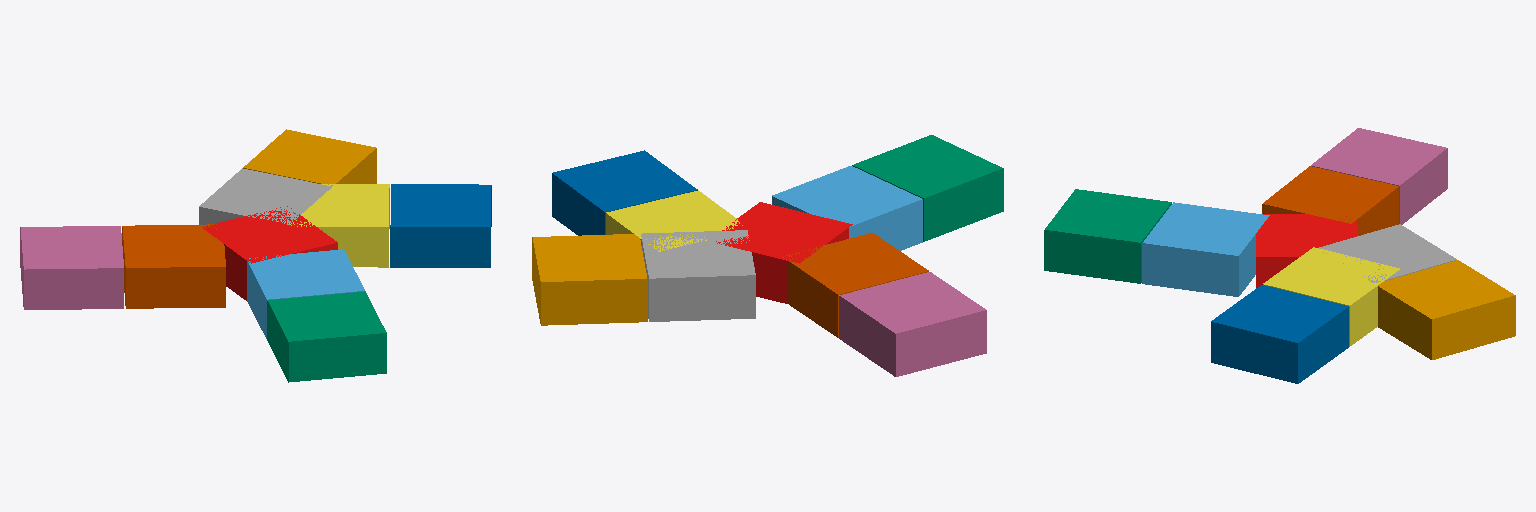
The robot description file, URDF, robot "Model_Models/Model_97.urdf3":
<?xml version='1.0' encoding='UTF-8'?>
<robot name="Model_Models/Model_97.urdf3">
  <link name="base_link">
    <inertial>
      <origin xyz="0.0 0.0 0.0" rpy="0.0 -0.0 0.0"/>
      <mass value="1.0"/>
      <inertia ixx="1.0" ixy="0.0" ixz="0.0" iyy="1.0" iyz="0.0" izz="1.0"/>
    </inertial>
    <visual>
      <geometry>
        <box size="0.67 0.67 0.3 "/>
      </geometry>
      <material name="red"/>
      <origin xyz="0.0 0.0 0.0" rpy="0.0 -0.0 0.0"/>
    </visual>
    <collision>
      <geometry>
        <box size="0.67 0.67 0.3 "/>
      </geometry>
      <origin xyz="0.0 0.0 0.0" rpy="0.0 0.0 0.0"/>
    </collision>
  </link>
  <link name="arm_1_arm1">
    <inertial>
      <origin xyz="0.0 0.34 0.0" rpy="0.0 0.0 0.0"/>
      <mass value="1.0"/>
      <inertia ixx="0.0" ixy="0.0" ixz="0.0" iyy="0.0" iyz="0.0" izz="0.0"/>
    </inertial>
    <visual>
      <geometry>
        <box size="0.67 0.67 0.3 "/>
      </geometry>
      <origin xyz="0.0 0.34 0.0" rpy="0.0 0.0 0.0"/>
    </visual>
    <collision>
      <geometry>
        <box size="0.67 0.67 0.3 "/>
      </geometry>
      <origin xyz="0.0 0.34 0.0" rpy="0.0 0.0 0.0"/>
    </collision>
  </link>
  <link name="arm_1_arm2">
    <inertial>
      <origin xyz="0.0 0.34 0.0" rpy="0.0 0.0 0.0"/>
      <mass value="1.0"/>
      <inertia ixx="0.0" ixy="0.0" ixz="0.0" iyy="0.0" iyz="0.0" izz="0.0"/>
    </inertial>
    <visual>
      <geometry>
        <box size="0.67 0.67 0.3 "/>
      </geometry>
      <origin xyz="0.0 0.34 0.0" rpy="0.0 0.0 0.0"/>
    </visual>
    <collision>
      <geometry>
        <box size="0.67 0.67 0.3 "/>
      </geometry>
      <origin xyz="0.0 0.34 0.0" rpy="0.0 0.0 0.0"/>
    </collision>
  </link>
  <link name="arm_2_arm1">
    <inertial>
      <origin xyz="0.0 0.34 0.0" rpy="0.0 0.0 0.0"/>
      <mass value="1.0"/>
      <inertia ixx="0.0" ixy="0.0" ixz="0.0" iyy="0.0" iyz="0.0" izz="0.0"/>
    </inertial>
    <visual>
      <geometry>
        <box size="0.67 0.67 0.3 "/>
      </geometry>
      <origin xyz="0.0 0.34 0.0" rpy="0.0 0.0 0.0"/>
    </visual>
    <collision>
      <geometry>
        <box size="0.67 0.67 0.3 "/>
      </geometry>
      <origin xyz="0.0 0.34 0.0" rpy="0.0 0.0 0.0"/>
    </collision>
  </link>
  <link name="arm_2_arm2">
    <inertial>
      <origin xyz="0.0 0.34 0.0" rpy="0.0 0.0 0.0"/>
      <mass value="1.0"/>
      <inertia ixx="0.0" ixy="0.0" ixz="0.0" iyy="0.0" iyz="0.0" izz="0.0"/>
    </inertial>
    <visual>
      <geometry>
        <box size="0.67 0.67 0.3 "/>
      </geometry>
      <origin xyz="0.0 0.34 0.0" rpy="0.0 0.0 0.0"/>
    </visual>
    <collision>
      <geometry>
        <box size="0.67 0.67 0.3 "/>
      </geometry>
      <origin xyz="0.0 0.34 0.0" rpy="0.0 0.0 0.0"/>
    </collision>
  </link>
  <link name="arm_3_arm1">
    <inertial>
      <origin xyz="0.0 0.34 0.0" rpy="0.0 0.0 0.0"/>
      <mass value="1.0"/>
      <inertia ixx="0.0" ixy="0.0" ixz="0.0" iyy="0.0" iyz="0.0" izz="0.0"/>
    </inertial>
    <visual>
      <geometry>
        <box size="0.67 0.67 0.3 "/>
      </geometry>
      <origin xyz="0.0 0.34 0.0" rpy="0.0 0.0 0.0"/>
    </visual>
    <collision>
      <geometry>
        <box size="0.67 0.67 0.3 "/>
      </geometry>
      <origin xyz="0.0 0.34 0.0" rpy="0.0 0.0 0.0"/>
    </collision>
  </link>
  <link name="arm_3_arm2">
    <inertial>
      <origin xyz="0.0 0.34 0.0" rpy="0.0 0.0 0.0"/>
      <mass value="1.0"/>
      <inertia ixx="0.0" ixy="0.0" ixz="0.0" iyy="0.0" iyz="0.0" izz="0.0"/>
    </inertial>
    <visual>
      <geometry>
        <box size="0.67 0.67 0.3 "/>
      </geometry>
      <origin xyz="0.0 0.34 0.0" rpy="0.0 0.0 0.0"/>
    </visual>
    <collision>
      <geometry>
        <box size="0.67 0.67 0.3 "/>
      </geometry>
      <origin xyz="0.0 0.34 0.0" rpy="0.0 0.0 0.0"/>
    </collision>
  </link>
  <link name="arm_Permutation_3_arm1">
    <inertial>
      <origin xyz="0.0 0.34 0.0" rpy="0.0 0.0 0.0"/>
      <mass value="1.0"/>
      <inertia ixx="0.0" ixy="0.0" ixz="0.0" iyy="0.0" iyz="0.0" izz="0.0"/>
    </inertial>
    <visual>
      <geometry>
        <box size="0.67 0.67 0.3 "/>
      </geometry>
      <origin xyz="0.0 0.34 0.0" rpy="0.0 0.0 0.0"/>
    </visual>
    <collision>
      <geometry>
        <box size="0.67 0.67 0.3 "/>
      </geometry>
      <origin xyz="0.0 0.34 0.0" rpy="0.0 0.0 0.0"/>
    </collision>
  </link>
  <link name="arm_Permutation_3_arm2">
    <inertial>
      <origin xyz="0.0 0.34 0.0" rpy="0.0 0.0 0.0"/>
      <mass value="1.0"/>
      <inertia ixx="0.0" ixy="0.0" ixz="0.0" iyy="0.0" iyz="0.0" izz="0.0"/>
    </inertial>
    <visual>
      <geometry>
        <box size="0.67 0.67 0.3 "/>
      </geometry>
      <origin xyz="0.0 0.34 0.0" rpy="0.0 0.0 0.0"/>
    </visual>
    <collision>
      <geometry>
        <box size="0.67 0.67 0.3 "/>
      </geometry>
      <origin xyz="0.0 0.34 0.0" rpy="0.0 0.0 0.0"/>
    </collision>
  </link>
  <joint name="arm_1_jointBase" type="fixed">
    <limit effort="1.57" velocity="1.57" lower="-1.57" upper="1.57"/>
    <parent link="base_link"/>
    <child link="arm_1_arm1"/>
    <axis xyz="1. 0. 0."/>
    <origin xyz="0.0 -0.34 0.0" rpy="0.0 0.0 2.83"/>
  </joint>
  <joint name="arm_1_joint1" type="revolute">
    <limit effort="1.57" velocity="1.57" lower="-1.57" upper="1.57"/>
    <parent link="arm_1_arm1"/>
    <child link="arm_1_arm2"/>
    <axis xyz="1. 0. 0."/>
    <origin xyz="0.0 0.68 0.0" rpy="0.0 0.0 0.0"/>
  </joint>
  <joint name="arm_2_jointBase" type="fixed">
    <limit effort="1.57" velocity="1.57" lower="-1.57" upper="1.57"/>
    <parent link="base_link"/>
    <child link="arm_2_arm1"/>
    <axis xyz="1. 0. 0."/>
    <origin xyz="0.34 0.34 0.0" rpy="0.0 0.0 -2.1"/>
  </joint>
  <joint name="arm_2_joint1" type="revolute">
    <limit effort="1.57" velocity="1.57" lower="-1.57" upper="1.57"/>
    <parent link="arm_2_arm1"/>
    <child link="arm_2_arm2"/>
    <axis xyz="1. 0. 0."/>
    <origin xyz="0.0 0.68 0.0" rpy="0.0 0.0 0.0"/>
  </joint>
  <joint name="arm_3_jointBase" type="fixed">
    <limit effort="1.57" velocity="1.57" lower="-1.57" upper="1.57"/>
    <parent link="base_link"/>
    <child link="arm_3_arm1"/>
    <axis xyz="1. 0. 0."/>
    <origin xyz="-0.34 0.0 0.0" rpy="0.0 0.0 1.08"/>
  </joint>
  <joint name="arm_3_joint1" type="revolute">
    <limit effort="1.57" velocity="1.57" lower="-1.57" upper="1.57"/>
    <parent link="arm_3_arm1"/>
    <child link="arm_3_arm2"/>
    <axis xyz="1. 0. 0."/>
    <origin xyz="0.0 0.68 0.0" rpy="0.0 0.0 0.0"/>
  </joint>
  <joint name="arm_Permutation_3_jointBase" type="fixed">
    <limit effort="1.57" velocity="1.57" lower="-1.57" upper="1.57"/>
    <parent link="base_link"/>
    <child link="arm_Permutation_3_arm1"/>
    <axis xyz="1. 0. 0."/>
    <origin xyz="0.0 0.34 0.0" rpy="0.0 0.0 -0.97"/>
  </joint>
  <joint name="arm_Permutation_3_joint1" type="revolute">
    <limit effort="1.57" velocity="1.57" lower="-1.57" upper="1.57"/>
    <parent link="arm_Permutation_3_arm1"/>
    <child link="arm_Permutation_3_arm2"/>
    <axis xyz="1. 0. 0."/>
    <origin xyz="0.0 0.68 0.0" rpy="0.0 0.0 0.0"/>
  </joint>
  <material name="red">
    <color rgba="0.969 0.129 0.122 1.   "/>
  </material>
</robot>

--- Facts derived from the render (not from the file) ---
3 views of the same robot in one strip: view 1: azimuth 30°, elevation 25°; view 2: azimuth 150°, elevation 25°; view 3: azimuth 270°, elevation 25° (orthographic).
Robot: Model_Models/Model_97.urdf3 — 9 links, 8 joints (4 revolute, 4 fixed); root link base_link; default pose: all joints at 0.
Links seen in each view (by area): view 1: arm_1_arm2, arm_3_arm2, arm_2_arm2, arm_3_arm1, arm_2_arm1, arm_Permutation_3_arm2, arm_1_arm1, base_link, arm_Permutation_3_arm1; view 2: arm_3_arm2, arm_Permutation_3_arm2, arm_Permutation_3_arm1, arm_1_arm2, arm_2_arm2, arm_1_arm1, arm_3_arm1, base_link, arm_2_arm1; view 3: arm_2_arm2, arm_Permutation_3_arm2, arm_1_arm1, arm_1_arm2, arm_3_arm2, arm_3_arm1, arm_2_arm1, base_link, arm_Permutation_3_arm1.
Link boxes in pixels (x1,y1,x2,y2): arm_1_arm2: [267, 291, 386, 382]; arm_3_arm2: [20, 226, 123, 309]; arm_2_arm2: [390, 184, 491, 267]; arm_3_arm1: [122, 224, 225, 308]; arm_2_arm1: [289, 184, 389, 267]; arm_Permutation_3_arm2: [243, 129, 376, 185]; arm_1_arm1: [247, 249, 364, 338]; base_link: [202, 206, 337, 300]; arm_Permutation_3_arm1: [199, 168, 331, 224]; arm_3_arm2: [839, 272, 986, 376]; arm_Permutation_3_arm2: [532, 234, 647, 325]; arm_Permutation_3_arm1: [641, 230, 755, 321]; arm_1_arm2: [852, 135, 1003, 241]; arm_2_arm2: [552, 150, 697, 235]; arm_1_arm1: [772, 166, 922, 250]; arm_3_arm1: [783, 233, 928, 337]; base_link: [716, 202, 852, 303]; arm_2_arm1: [606, 190, 742, 251]; arm_2_arm2: [1211, 285, 1348, 383]; arm_Permutation_3_arm2: [1378, 260, 1515, 359]; arm_1_arm1: [1142, 202, 1269, 296]; arm_1_arm2: [1044, 189, 1171, 283]; arm_3_arm2: [1311, 128, 1447, 224]; arm_3_arm1: [1262, 166, 1398, 235]; arm_2_arm1: [1263, 247, 1399, 346]; base_link: [1256, 214, 1356, 287]; arm_Permutation_3_arm1: [1319, 224, 1456, 282].
Bounding box of the posed robot: 3.37 × 3.11 × 0.3 m (x, y, z).
Geometry: primitives only (box / cylinder / sphere), no mesh files.